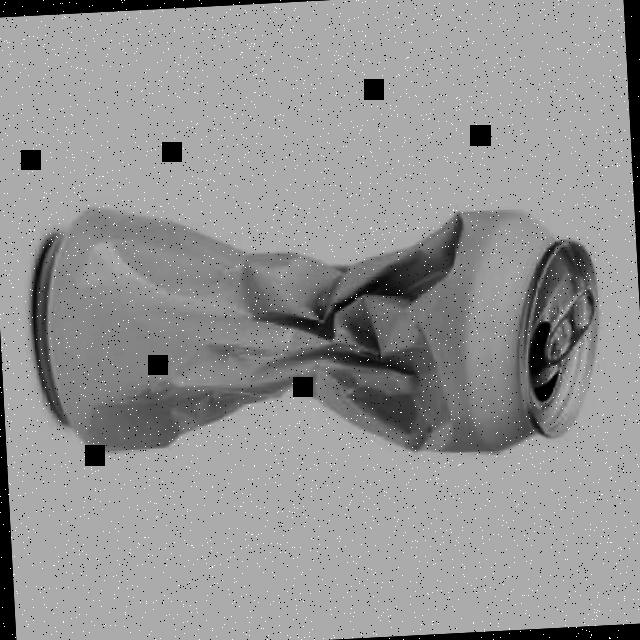can: (20, 176, 612, 486)
